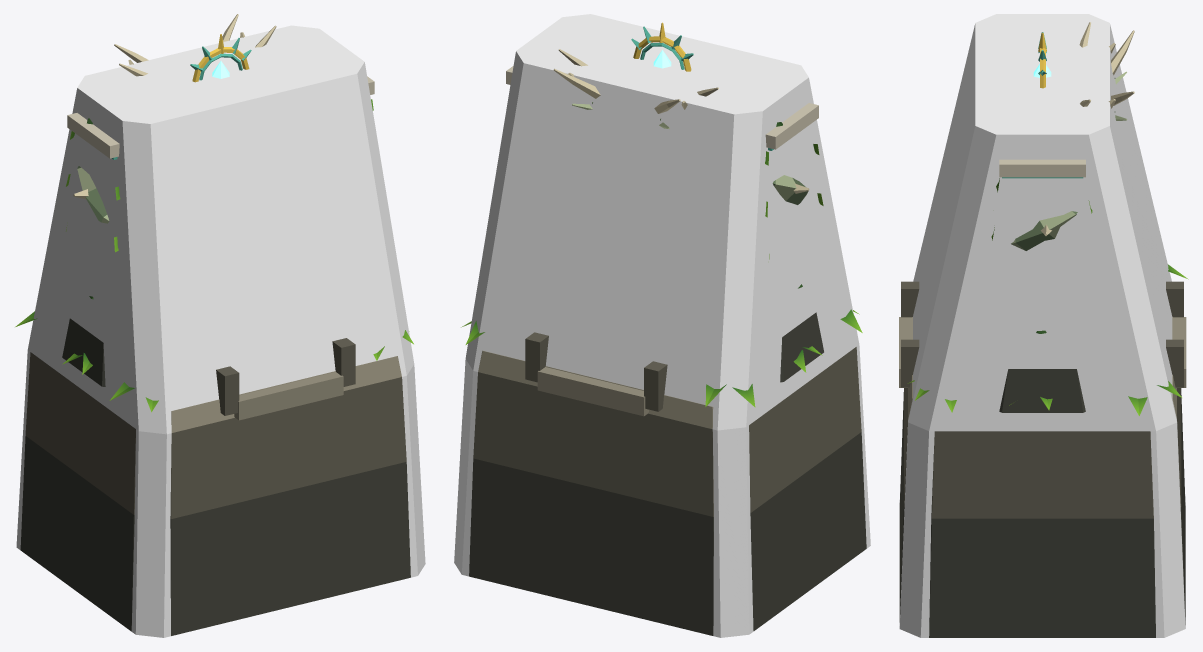
Rendered from ancient_serpent_tide_portal.glb.
3 renders of one model, left to right at view 1: azimuth 30°, elevation 25°; view 2: azimuth 150°, elevation 25°; view 3: azimuth 270°, elevation 25°, orthographic. The views are drawn at different scales.
Visible parts, largest first — view 1: col_serpentportal_base, ancient_serpent_tide_portal; view 2: col_serpentportal_base, ancient_serpent_tide_portal; view 3: col_serpentportal_base, ancient_serpent_tide_portal.
Boxes of the visible parts, box(x1,y1,x2,y2) form: col_serpentportal_base: box(16, 25, 425, 637); ancient_serpent_tide_portal: box(15, 14, 413, 635); col_serpentportal_base: box(454, 14, 870, 637); ancient_serpent_tide_portal: box(461, 22, 866, 635); col_serpentportal_base: box(899, 14, 1185, 637); ancient_serpent_tide_portal: box(899, 22, 1188, 637).
Bounding box in the file's own units: 5.14 × 8.39 × 4.14.
